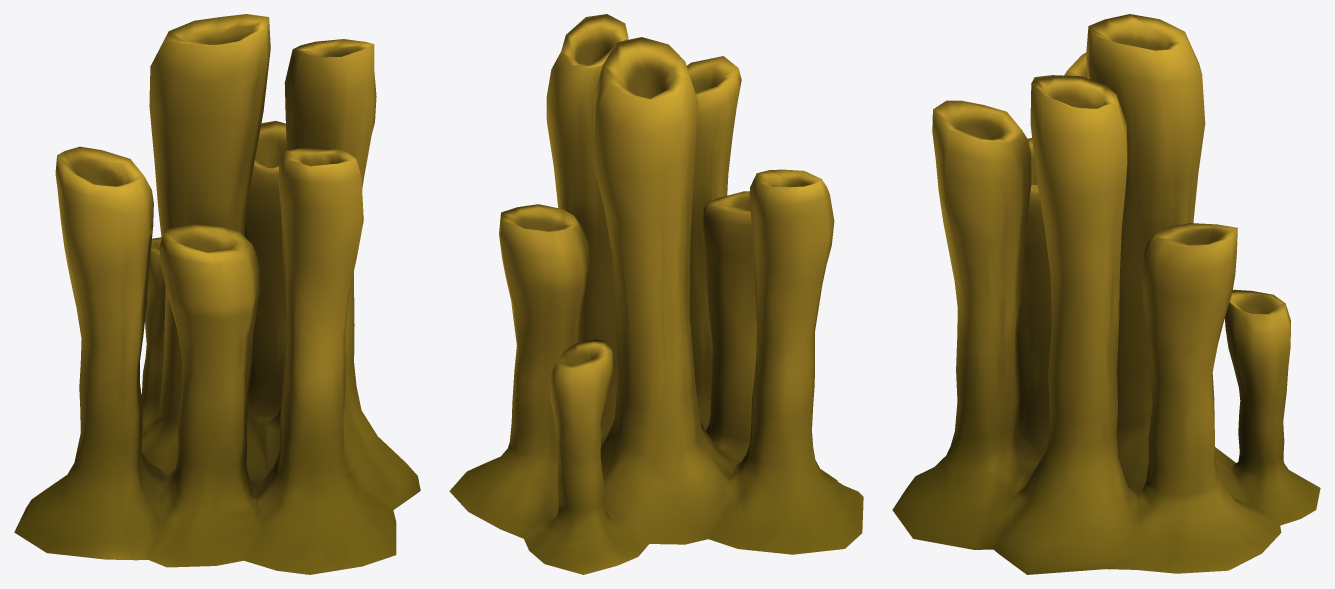
The model's file is coral25_FBX_still.fbx.
3 renders of one model, left to right at view 1: azimuth 30°, elevation 25°; view 2: azimuth 150°, elevation 25°; view 3: azimuth 270°, elevation 25°, orthographic. The views are drawn at different scales.
Visible parts, largest first — view 1: coral25_gameasset; view 2: coral25_gameasset; view 3: coral25_gameasset.
Part boxes in pixels (x1,y1,x2,y2): coral25_gameasset: [14, 14, 420, 574]; coral25_gameasset: [449, 14, 863, 574]; coral25_gameasset: [892, 14, 1320, 574].
Bounding box in the file's own units: 1.51 × 1.82 × 1.46.
Materials: 1 (1 with a texture image).
